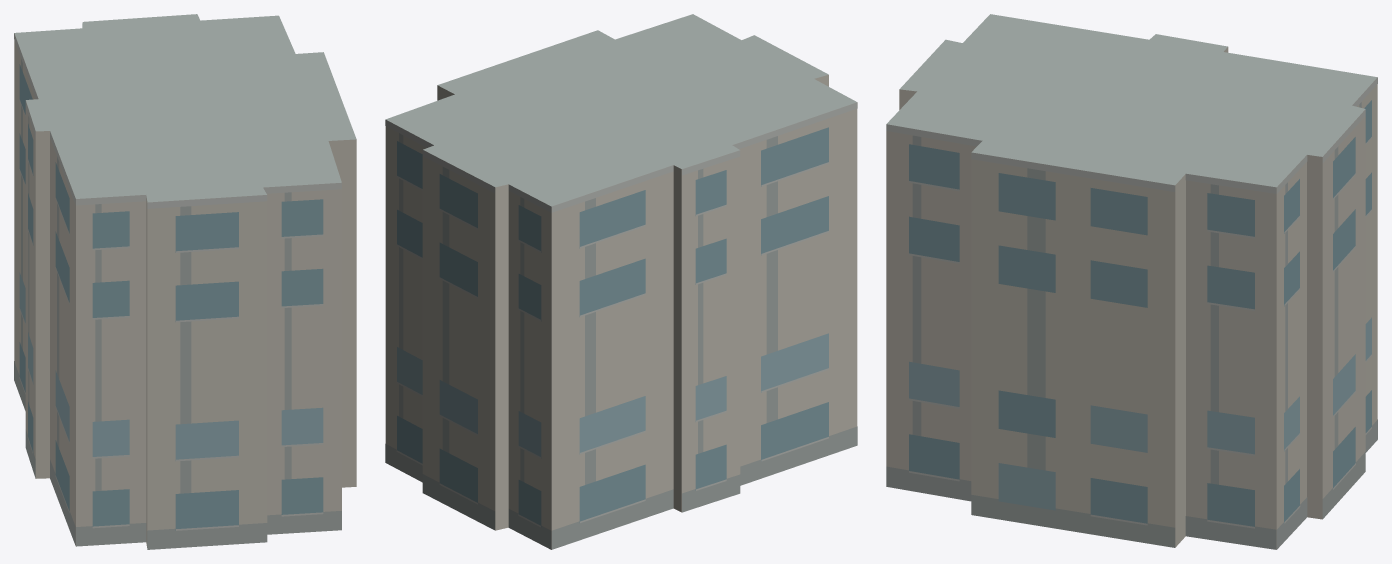
The model's file is survey-upis-32876765.glb.
3 renders of one model, left to right at view 1: azimuth 30°, elevation 25°; view 2: azimuth 150°, elevation 25°; view 3: azimuth 270°, elevation 25°, orthographic. The views are drawn at different scales.
Visible parts, largest first — view 1: survey-upis-32876765.tmp; view 2: survey-upis-32876765.tmp; view 3: survey-upis-32876765.tmp.
Part boxes in pixels (x1,y1,x2,y2): survey-upis-32876765.tmp: (14, 14, 356, 549); survey-upis-32876765.tmp: (385, 14, 857, 549); survey-upis-32876765.tmp: (886, 14, 1377, 549).
Size of the model in its own units: 13.39 by 13.05 by 16.04.
